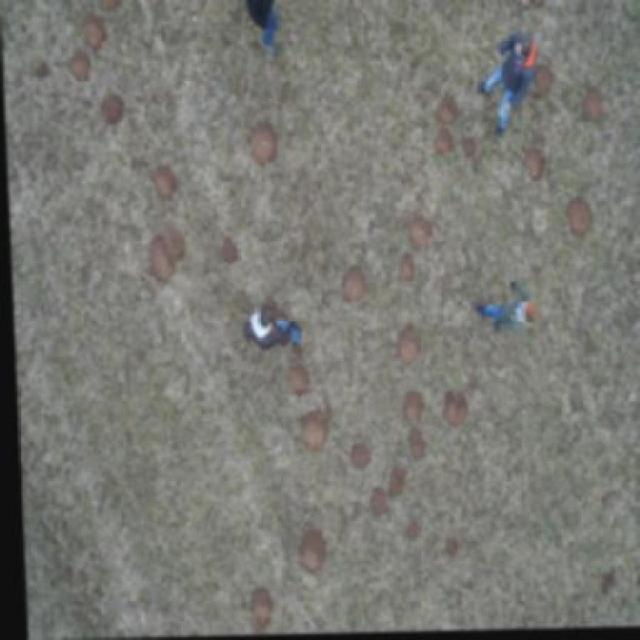Person: (466, 28, 540, 146), (462, 278, 548, 342), (232, 298, 308, 362), (232, 0, 285, 63)
